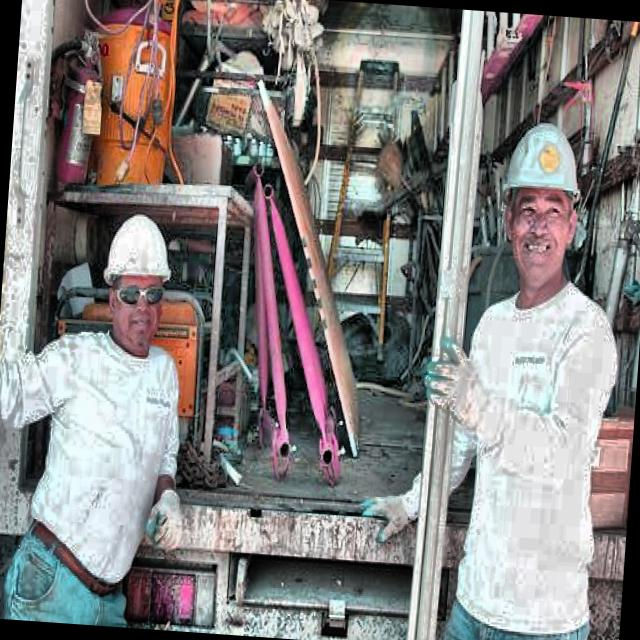helmet: (487, 104, 589, 304), (89, 200, 177, 360)
